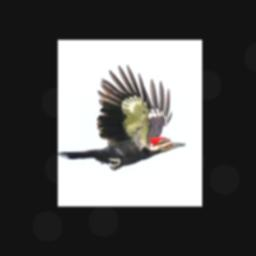Woodpecker: (58, 64, 187, 171)
